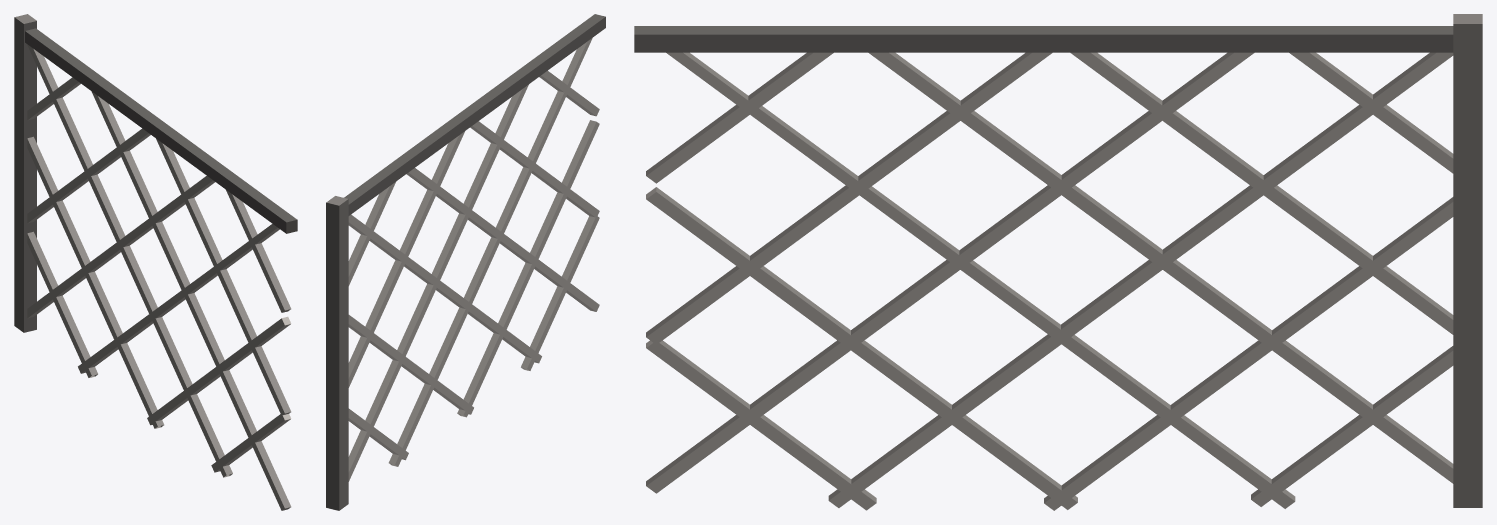
The model's file is SM_Prop_WireFence_01.fbx.
3 renders of one model, left to right at view 1: azimuth 30°, elevation 25°; view 2: azimuth 150°, elevation 25°; view 3: azimuth 270°, elevation 25°, orthographic. The views are drawn at different scales.
Parts seen in each view (by area): view 1: SM_Prop_WireFence_01; view 2: SM_Prop_WireFence_01; view 3: SM_Prop_WireFence_01.
Boxes of the visible parts, x1,y1,x2,y2 form: SM_Prop_WireFence_01: (14, 14, 297, 510); SM_Prop_WireFence_01: (326, 14, 605, 510); SM_Prop_WireFence_01: (634, 14, 1482, 510).
Size of the model in its own units: 0.1452 by 3.27 by 5.14.
